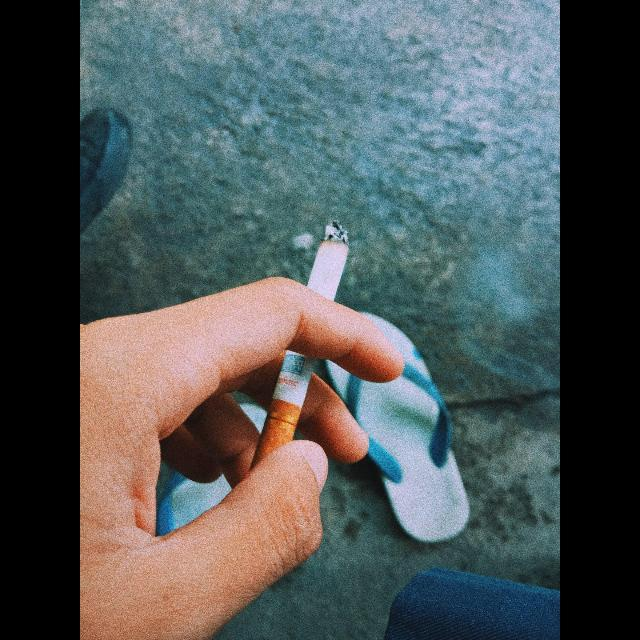rokok: (248, 221, 352, 467)
